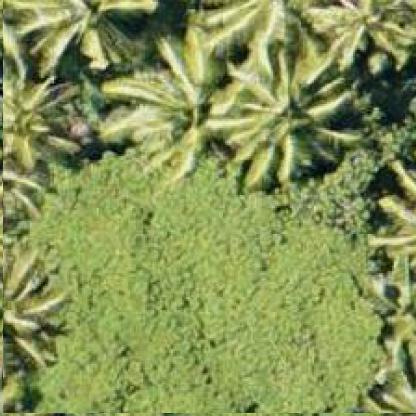coconut tree: (2, 0, 415, 415)
